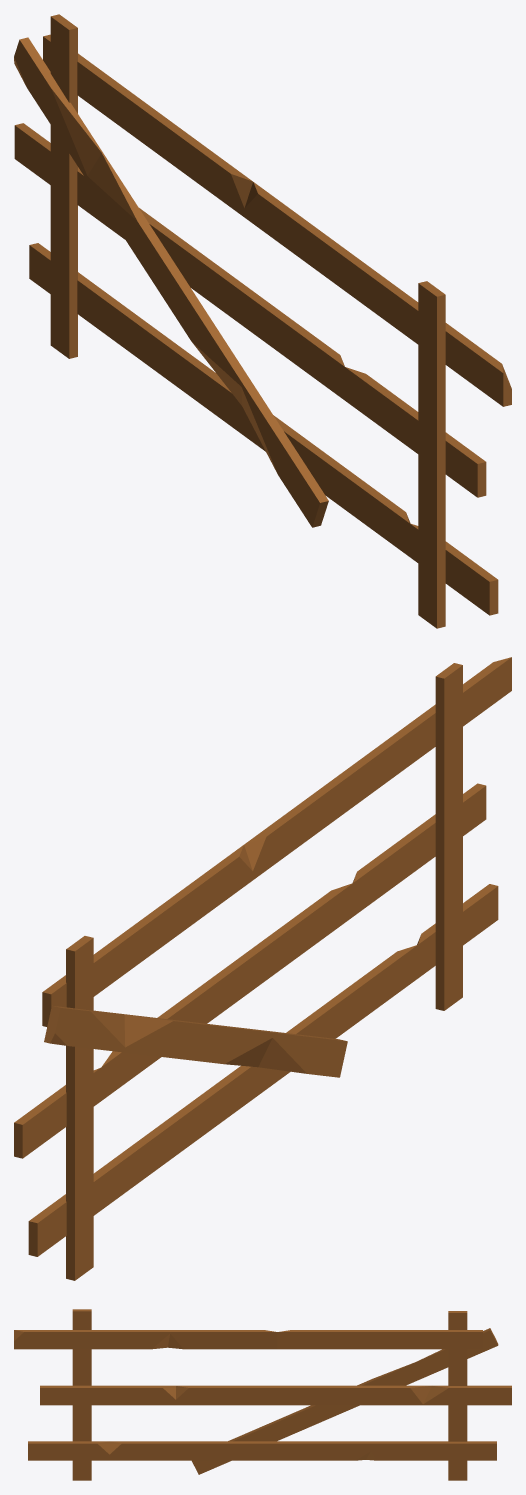
Rendered from fence1.fbx.
The picture shows the model from 3 angles, top to bottom: view 1: azimuth 30°, elevation 25°; view 2: azimuth 150°, elevation 25°; view 3: azimuth 270°, elevation 25°; orthographic projection. The views are drawn at different scales.
Parts seen in each view (by area): view 1: Cube.003; view 2: Cube.003; view 3: Cube.003.
Boxes of the visible parts, box(x1,y1,x2,y2) form: Cube.003: box(14, 14, 511, 628); Cube.003: box(14, 657, 511, 1280); Cube.003: box(14, 1309, 511, 1480).
Bounding box in the file's own units: 15.68 × 197 × 525.
